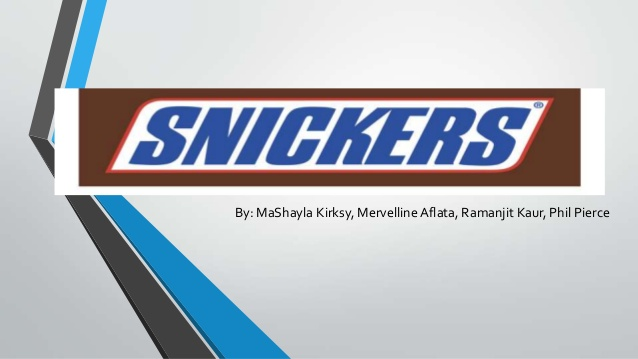snickers: (124, 104, 530, 163)
